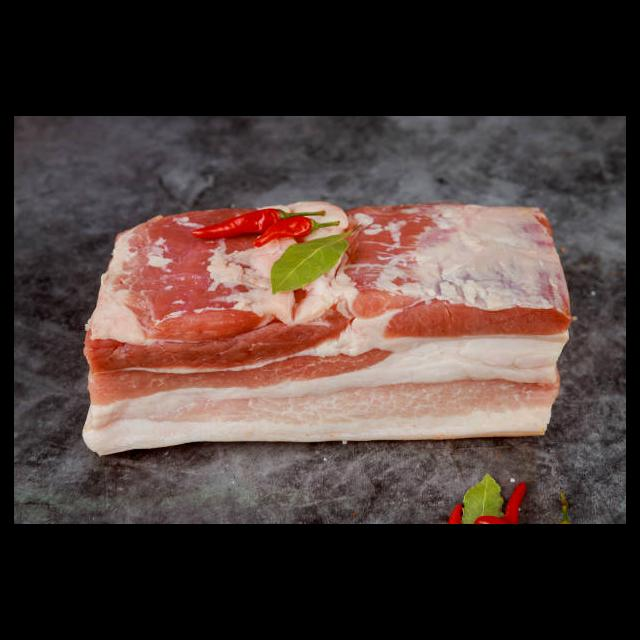pork: (79, 253, 566, 455)
